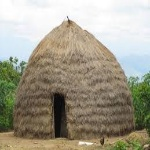House: (14, 24, 142, 140)
